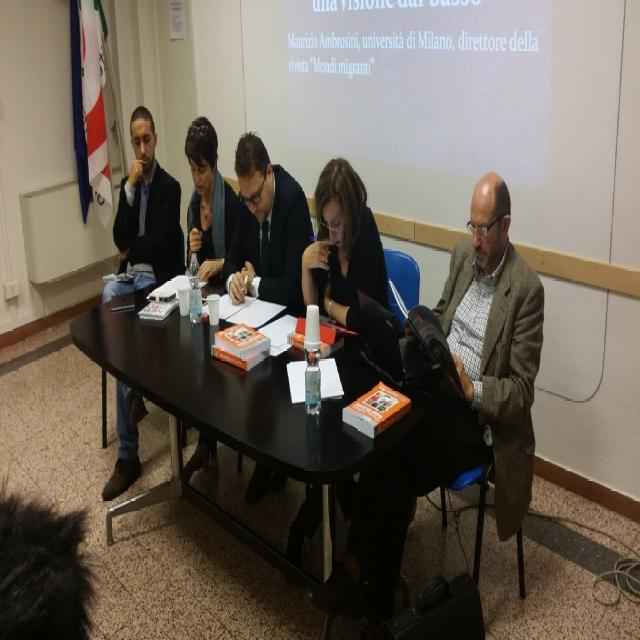chair: (383, 248, 421, 322)
desk: (65, 270, 427, 640)
person: (322, 171, 544, 628), (100, 103, 185, 497), (223, 131, 314, 317), (300, 158, 392, 330), (184, 115, 239, 292)
